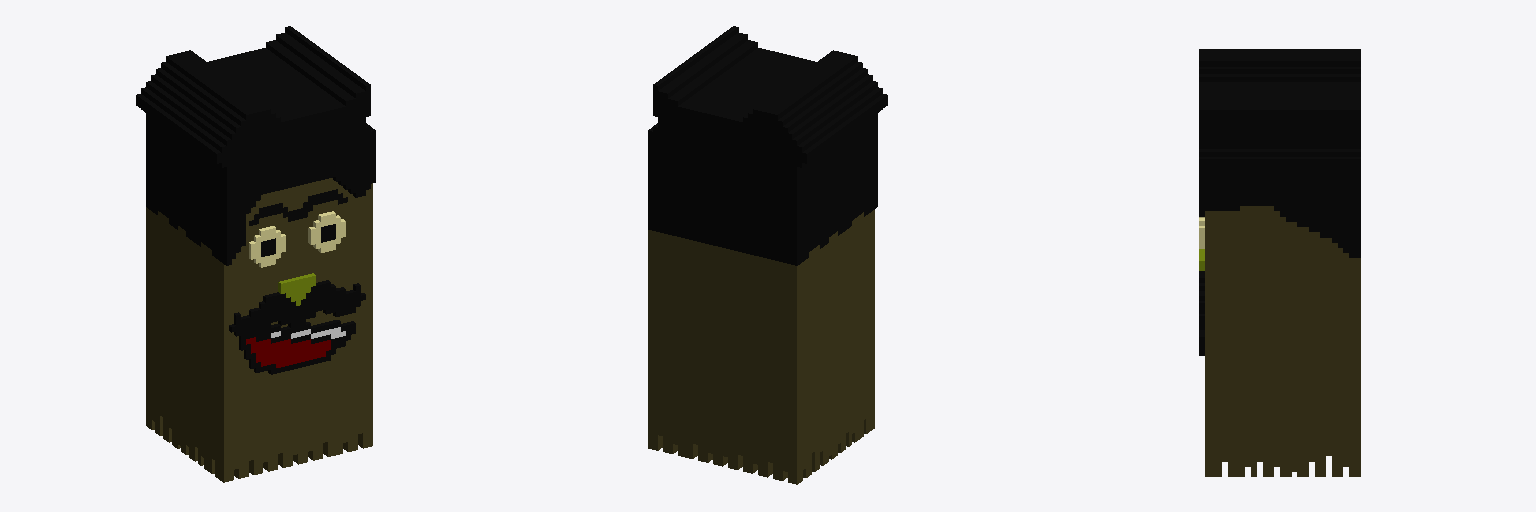
The picture shows the model from 3 angles: view 1: azimuth 30°, elevation 25°; view 2: azimuth 150°, elevation 25°; view 3: azimuth 270°, elevation 25°; orthographic projection.
Parts seen in each view (by area): view 1: object 1; view 2: object 1; view 3: object 1.
Part boxes in pixels (bbox=[...]): object 1: bbox=[136, 26, 375, 482]; object 1: bbox=[648, 26, 887, 484]; object 1: bbox=[1199, 49, 1360, 476].
Size of the model in its own units: 3.2 by 7 by 2.8.
1 materials, 1 textured.